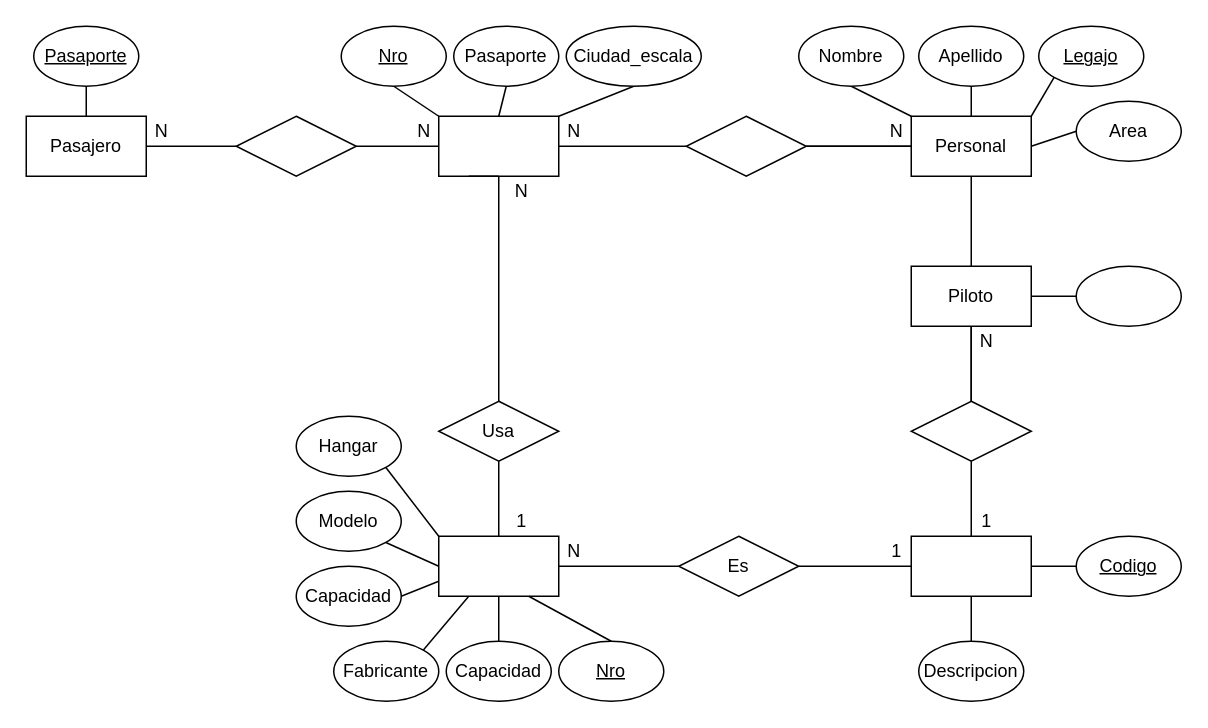
Image size: 1208x728. Some labels were removed from this diagram. Each missing label, with the centre of its shape:
Asignar: the point at 745,145
Avion: the point at 498,565
Compra: the point at 295,145
Horas: the point at 1128,295
Pilotea: the point at 970,430
Tipo: the point at 970,565
Vuelo: the point at 498,145
